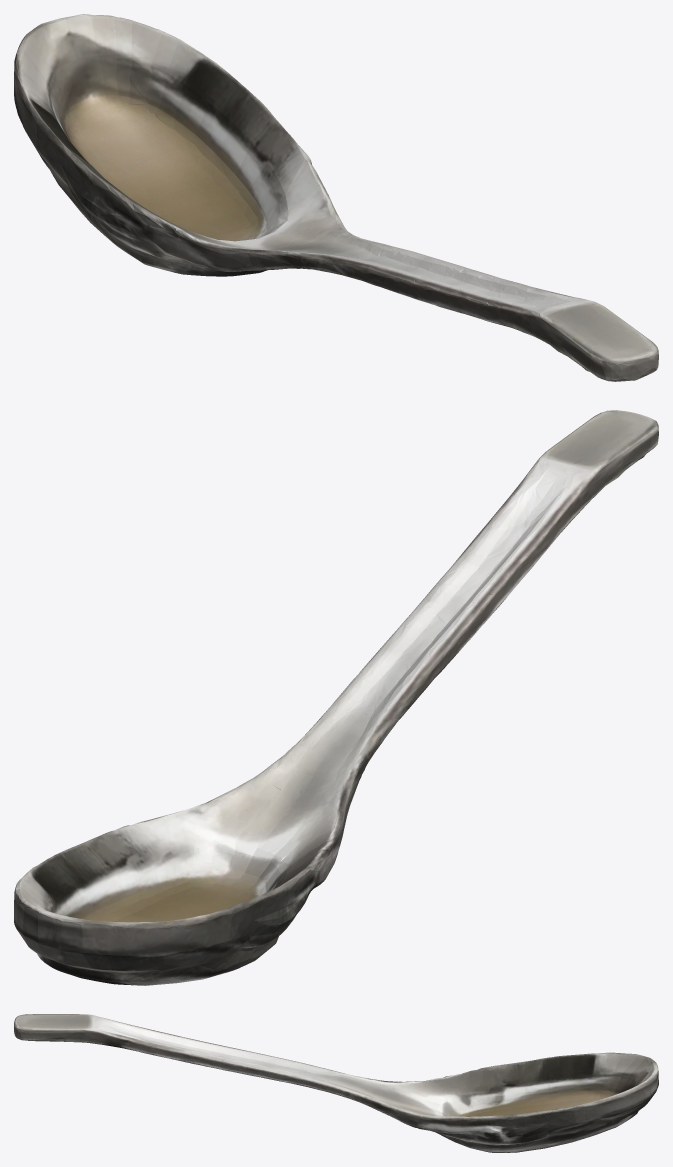
The picture shows the model from 3 angles, top to bottom: view 1: azimuth 30°, elevation 25°; view 2: azimuth 150°, elevation 25°; view 3: azimuth 270°, elevation 25°; orthographic projection. The views are drawn at different scales.
Parts seen in each view (by area): view 1: world; view 2: world; view 3: world.
Part boxes in pixels (x1,y1,x2,y2): world: (14, 14, 658, 381); world: (14, 410, 658, 985); world: (14, 1014, 658, 1152).
Size of the model in its own units: 0.1988 by 0.2016 by 1.
Materials: 1 (1 with a texture image).
